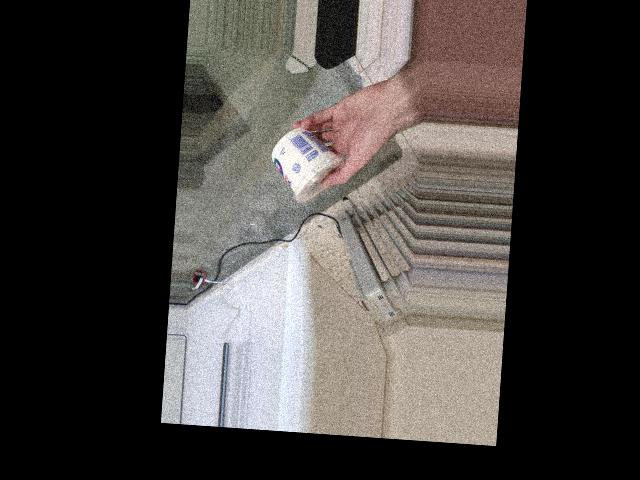cotage: (267, 121, 348, 208)
